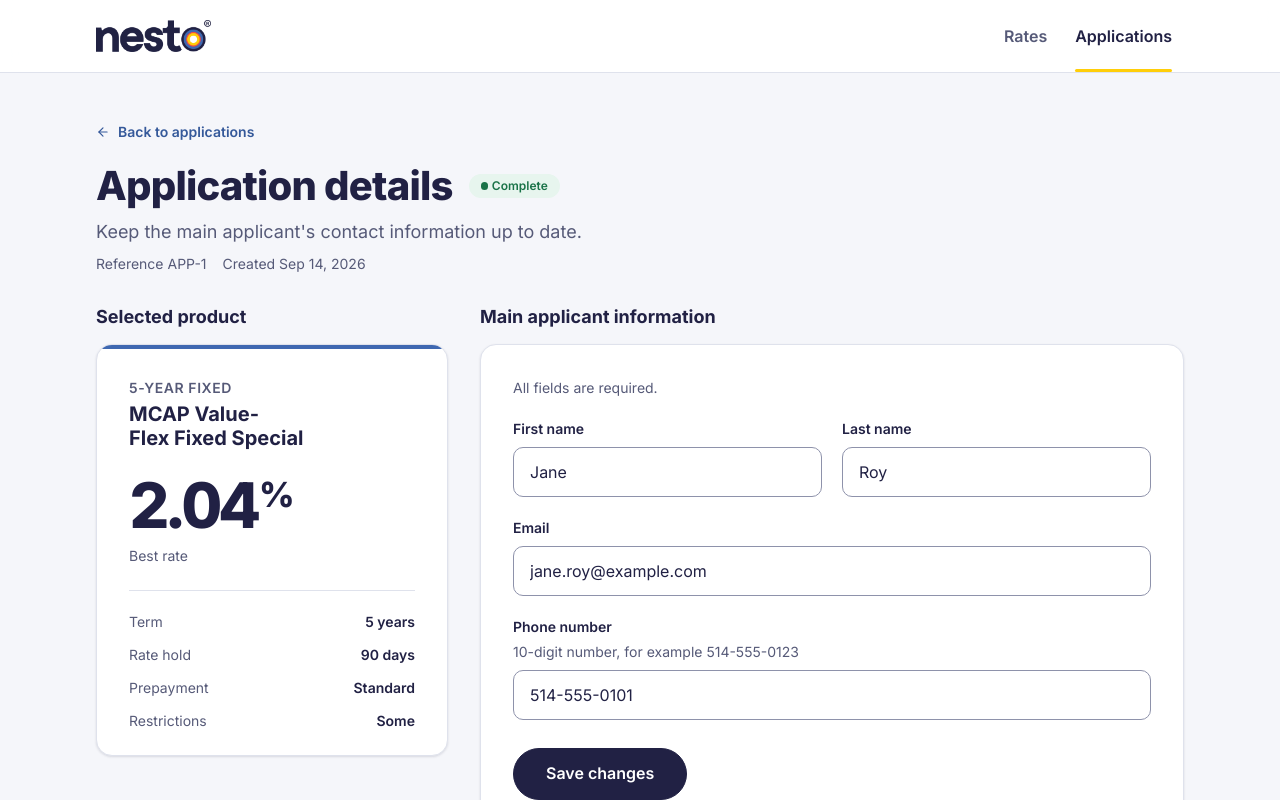
Scenario: ApplicationPage › tells the user when saving fails and keeps what they typed
The width and height of the screenshot is (1280, 800).
Replace the text in the field labelled "First name" with "Janet" at (668, 472), box [513,447,822,497]
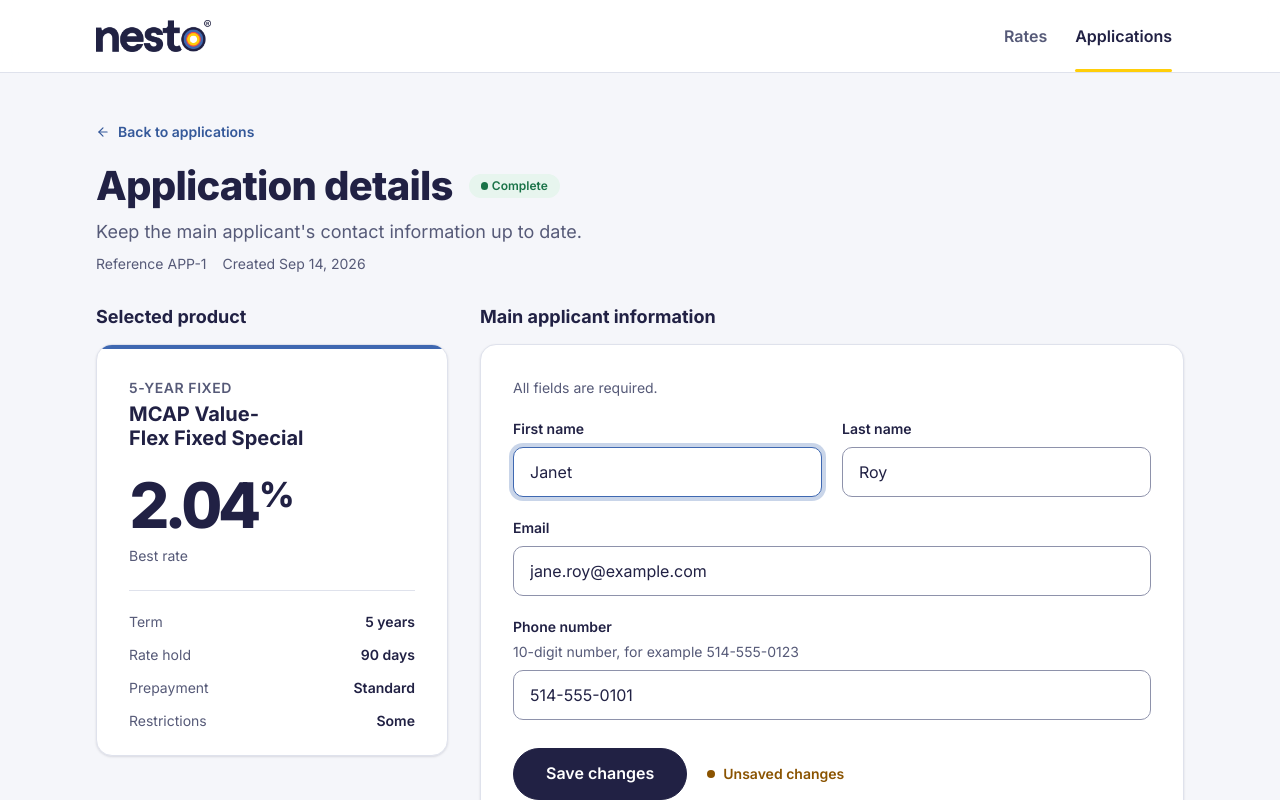
Click the button "Save changes" at (600, 774), box [513,748,687,799]
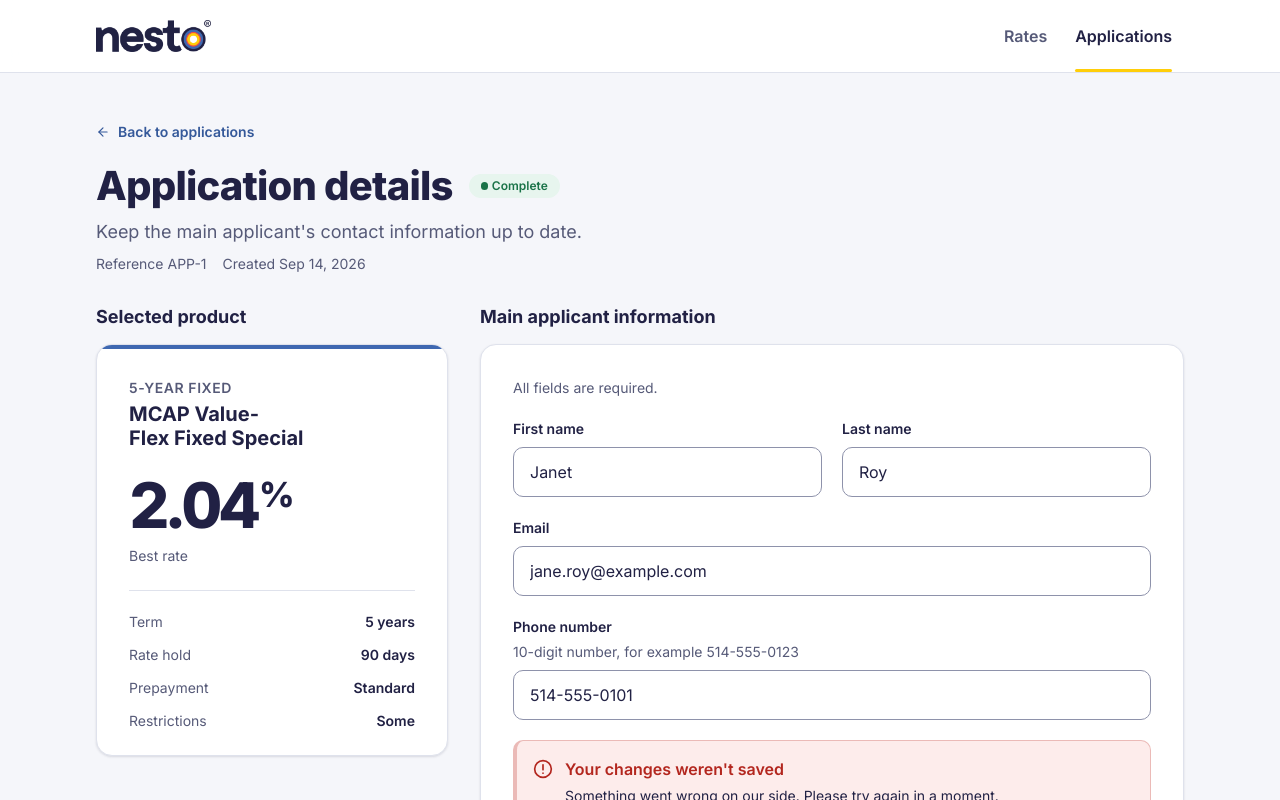
Result: the message shows "Your changes weren't saved" at [565,759,784,779]
